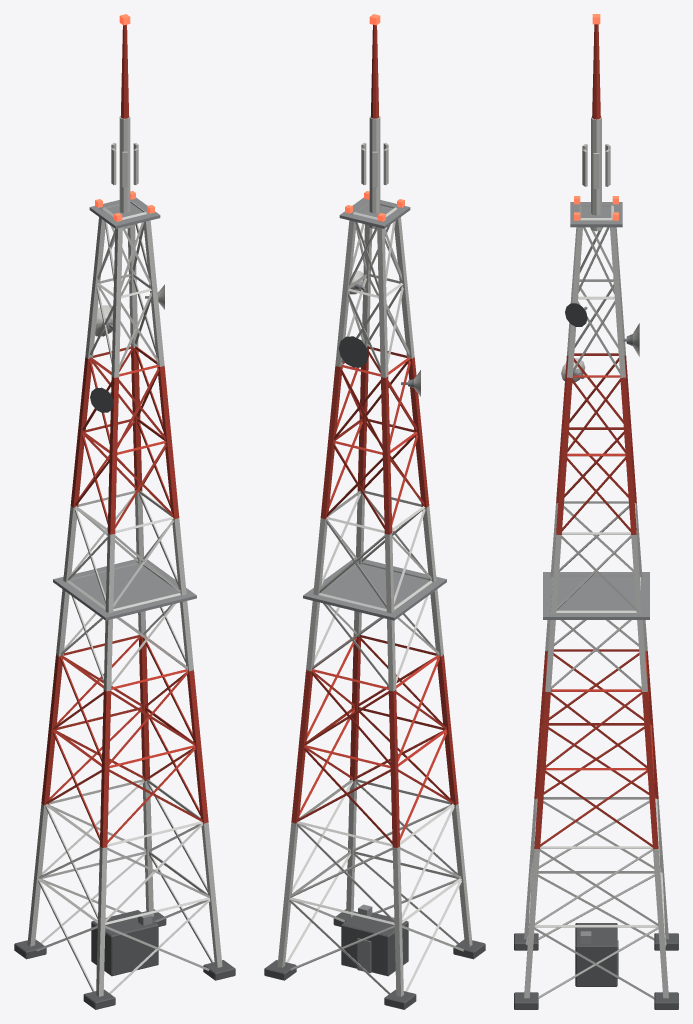
Rendered from comm_tower.glb.
3 views of the same model, side by side, from view 1: azimuth 30°, elevation 25°; view 2: azimuth 150°, elevation 25°; view 3: azimuth 270°, elevation 25° (orthographic).
Visible parts, largest first — view 1: comm_tower; view 2: comm_tower; view 3: comm_tower.
Part boxes in pixels (x1,y1,x2,y2): comm_tower: [14, 14, 235, 1009]; comm_tower: [264, 14, 485, 1009]; comm_tower: [514, 14, 678, 1009].
Size of the model in its own units: 9.4 by 60.48 by 9.4.
